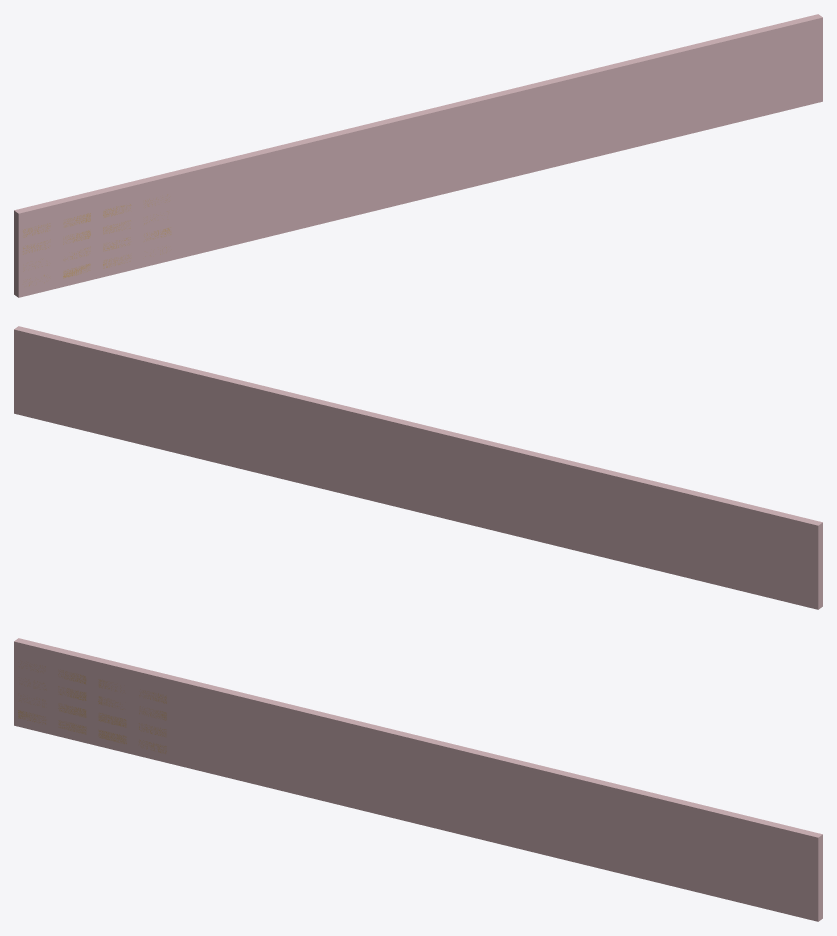
File: board.glb
The picture shows the model from 3 angles, top to bottom: view 1: azimuth 30°, elevation 25°; view 2: azimuth 150°, elevation 25°; view 3: azimuth 330°, elevation 25°; orthographic projection.
Visible parts, largest first — view 1: Substrate_Layer_0; view 2: Substrate_Layer_0; view 3: Substrate_Layer_0.
Part boxes in pixels (x1=…): Substrate_Layer_0: x1=14, y1=14, x2=822, y2=297; Substrate_Layer_0: x1=14, y1=326, x2=822, y2=609; Substrate_Layer_0: x1=14, y1=638, x2=822, y2=921.
Size of the model in its own units: 0.2 by 0.02 by 0.002.
